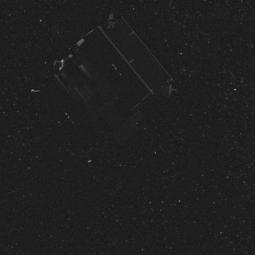proba_2: (44, 5, 171, 158)
